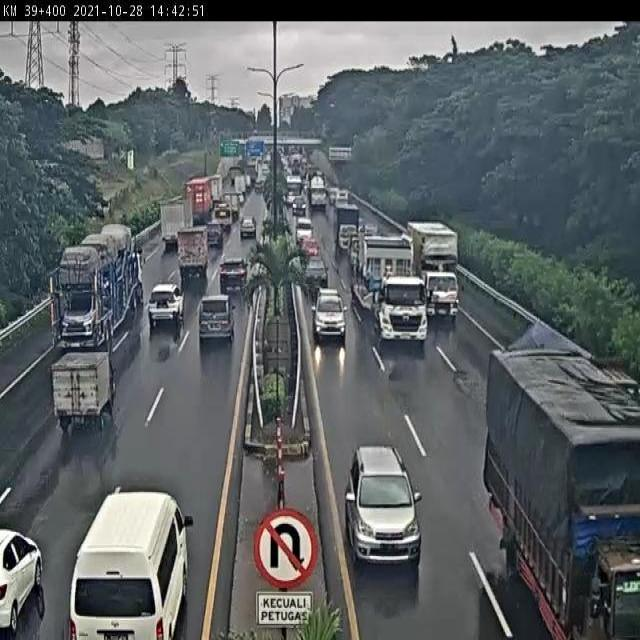ARABA: (344, 444, 423, 565), (0, 530, 46, 634), (312, 285, 349, 339), (198, 296, 232, 340), (149, 289, 186, 327), (303, 253, 328, 291), (221, 256, 249, 284), (300, 236, 322, 263)
KAMYONET: (64, 336, 122, 403), (178, 224, 210, 280), (336, 207, 360, 252)
OTOBUS: (75, 489, 189, 640)
TIR: (62, 217, 146, 332), (354, 231, 431, 345), (412, 225, 462, 318)
